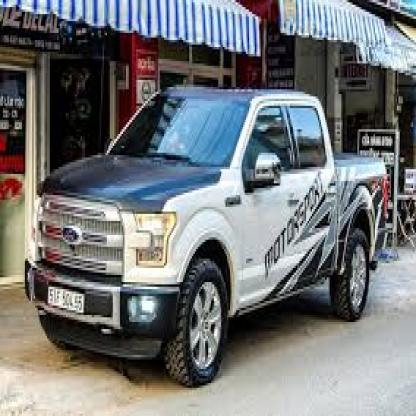biensoxe: (45, 285, 86, 319)
